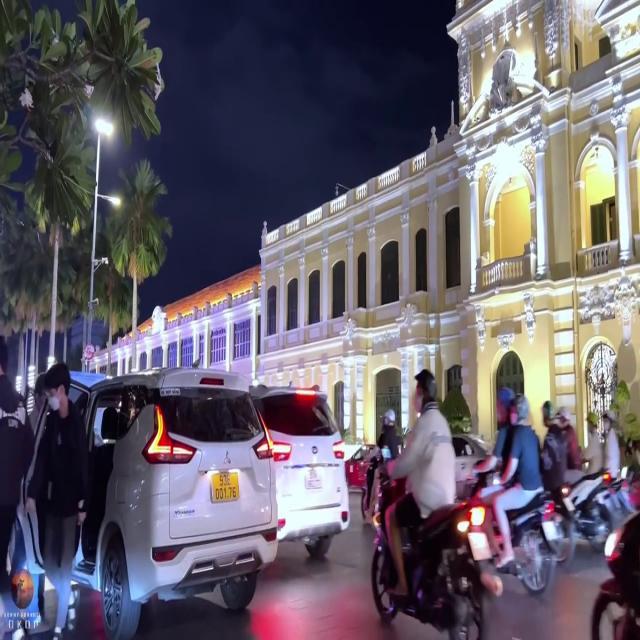bien_vang: (210, 469, 247, 507)
